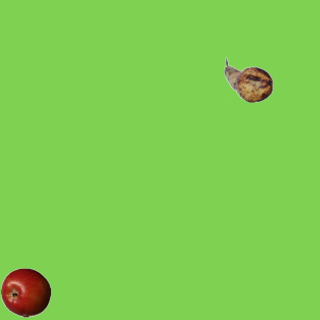Apple Braeburn: (0, 267, 50, 317)
Pear Abate: (223, 55, 273, 105)
